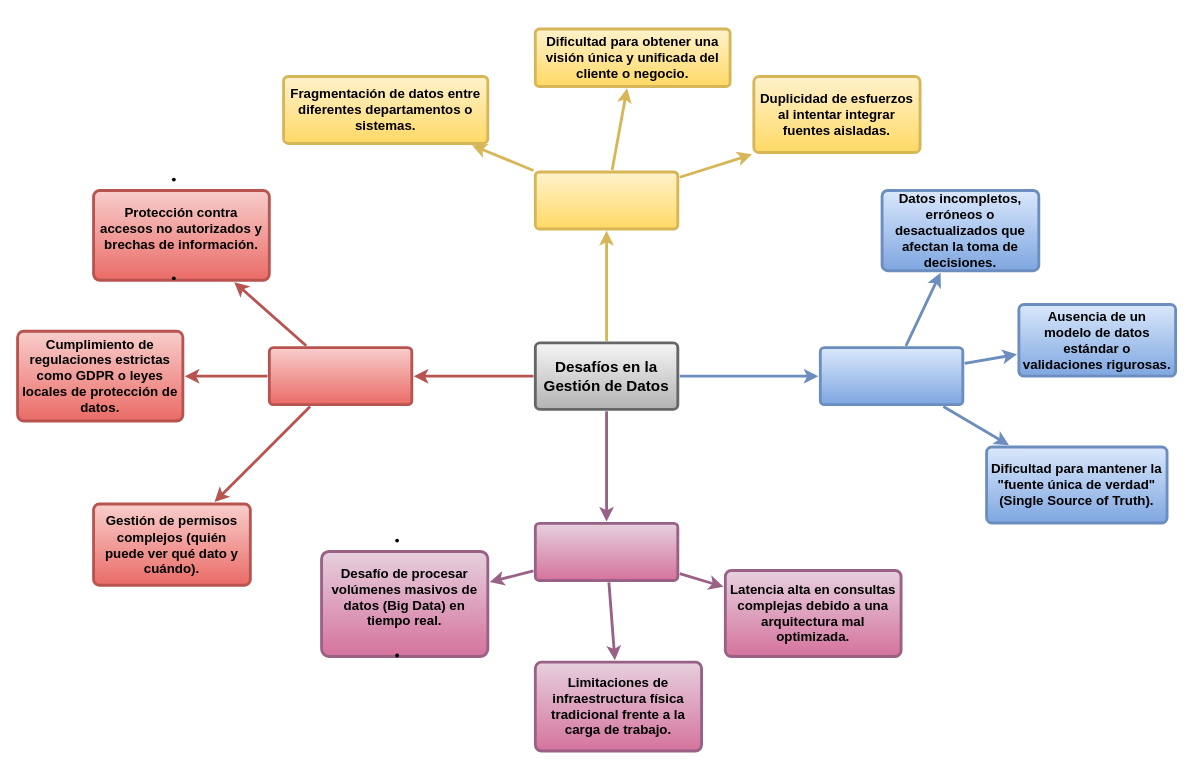
Some shapes in this 1193 by 772 pixel diagram are drawn without their labels. Each missing label, with the centre of its shape:
Calidad y Consistencia: point (891, 376)
Escalabilidad y Rendimiento: point (606, 551)
Seguridad, Privacidad y Cumplimiento: point (340, 376)
Silos de Información (Data Silos): point (606, 200)
